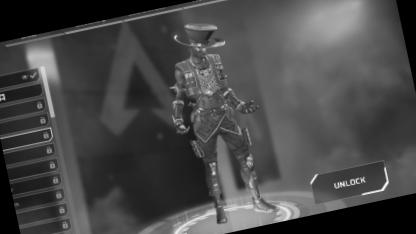Target: (171, 19, 254, 189)
